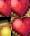heart: (11, 17, 30, 36), (11, 0, 30, 17), (0, 0, 11, 17)
